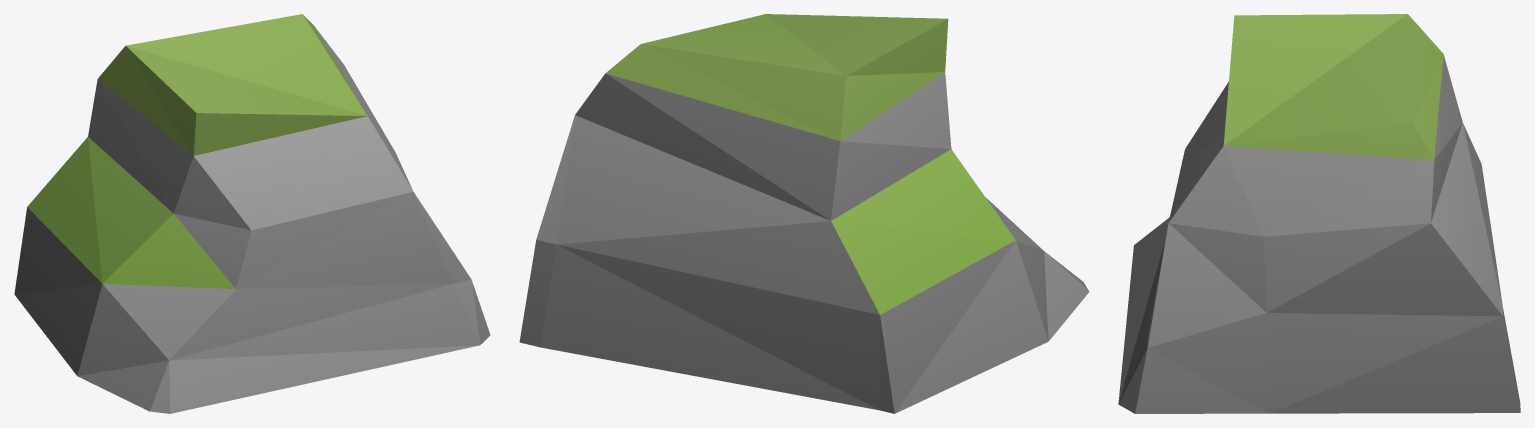
Rendered from green-stone-3.glb.
3 renders of one model, left to right at view 1: azimuth 30°, elevation 25°; view 2: azimuth 150°, elevation 25°; view 3: azimuth 270°, elevation 25°, orthographic. The views are drawn at different scales.
Parts seen in each view (by area): view 1: green stone 3; view 2: green stone 3; view 3: green stone 3.
Part boxes in pixels (bbox=[...]): green stone 3: bbox=[14, 14, 490, 413]; green stone 3: bbox=[519, 14, 1089, 413]; green stone 3: bbox=[1118, 14, 1520, 413].
Bounding box in the file's own units: 0.804 × 0.5567 × 0.7386.
1 material, 1 textured.
